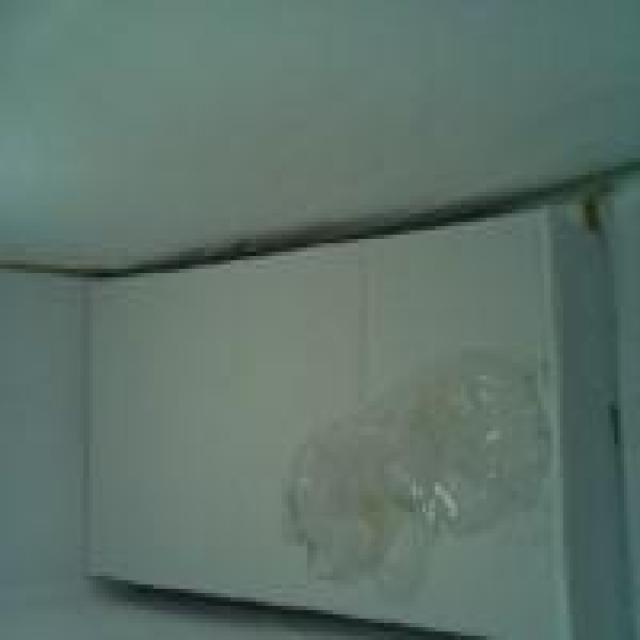bottle: (258, 345, 562, 596)
